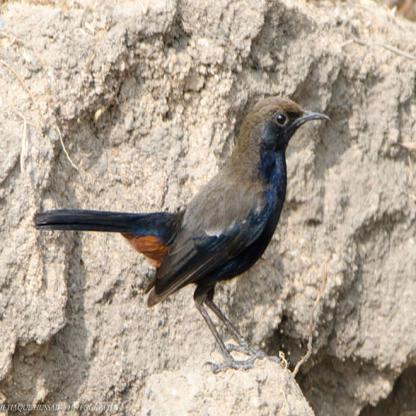Burung: (34, 95, 330, 372)
